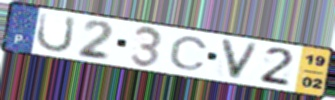2: (256, 46, 298, 88), (78, 19, 117, 62)
3: (129, 25, 165, 70)
C: (168, 35, 210, 72)
U: (34, 11, 79, 54)
V: (218, 37, 262, 82)
